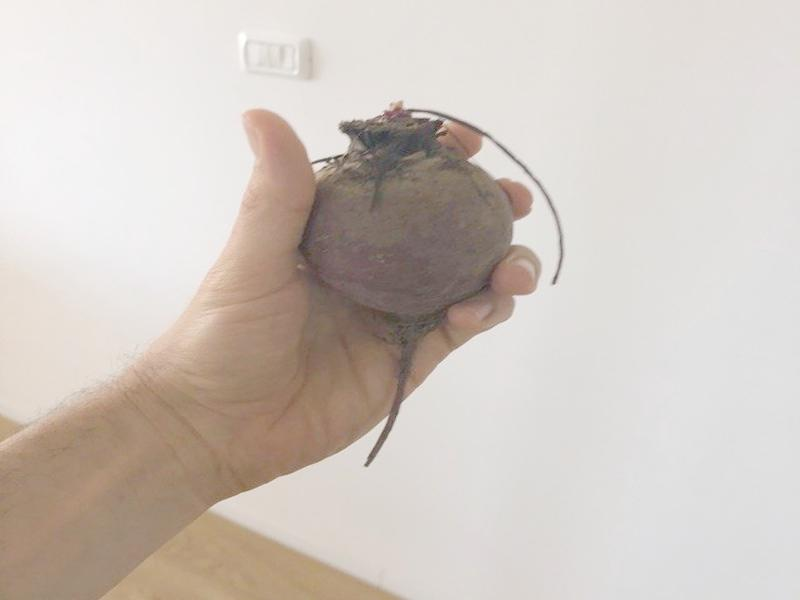Beet: (308, 102, 566, 466)
